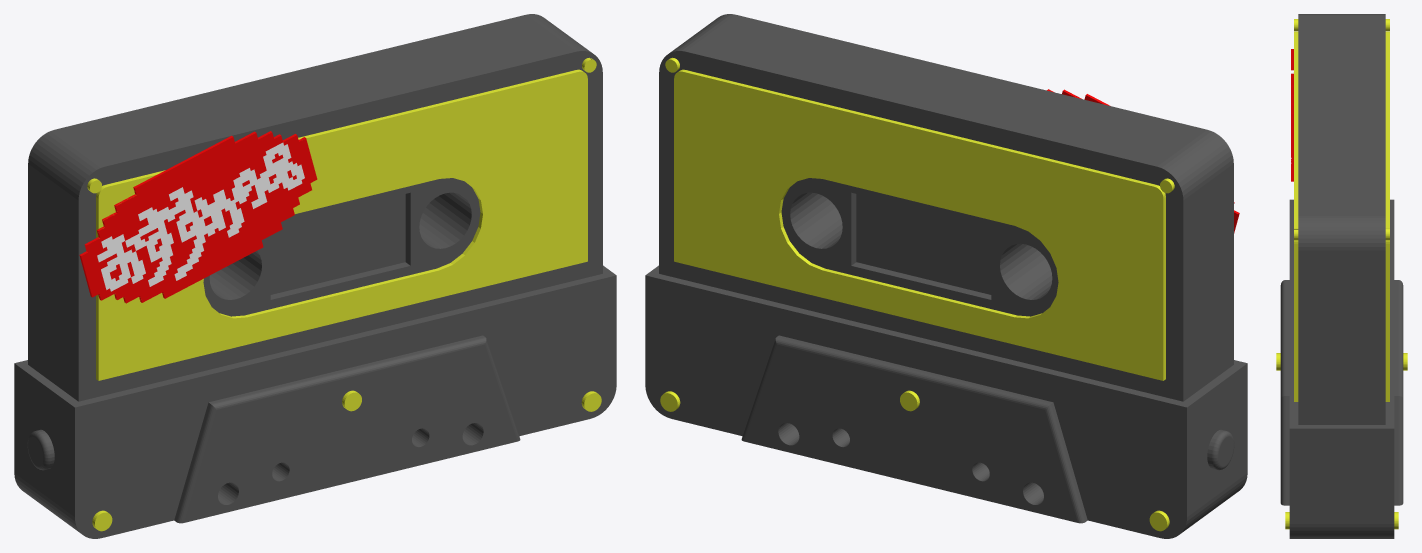
The model's file is season.glb.
The picture shows the model from 3 angles, left to right: view 1: azimuth 30°, elevation 25°; view 2: azimuth 150°, elevation 25°; view 3: azimuth 270°, elevation 25°; orthographic projection. The views are drawn at different scales.
Visible parts, largest first — view 1: season; view 2: season; view 3: season.
Part boxes in pixels (x1,y1,x2,y2): season: (14, 14, 616, 538); season: (645, 14, 1247, 538); season: (1276, 14, 1407, 538).
Size of the model in its own units: 1.89 by 1.21 by 0.45.
3 materials, 1 textured.
